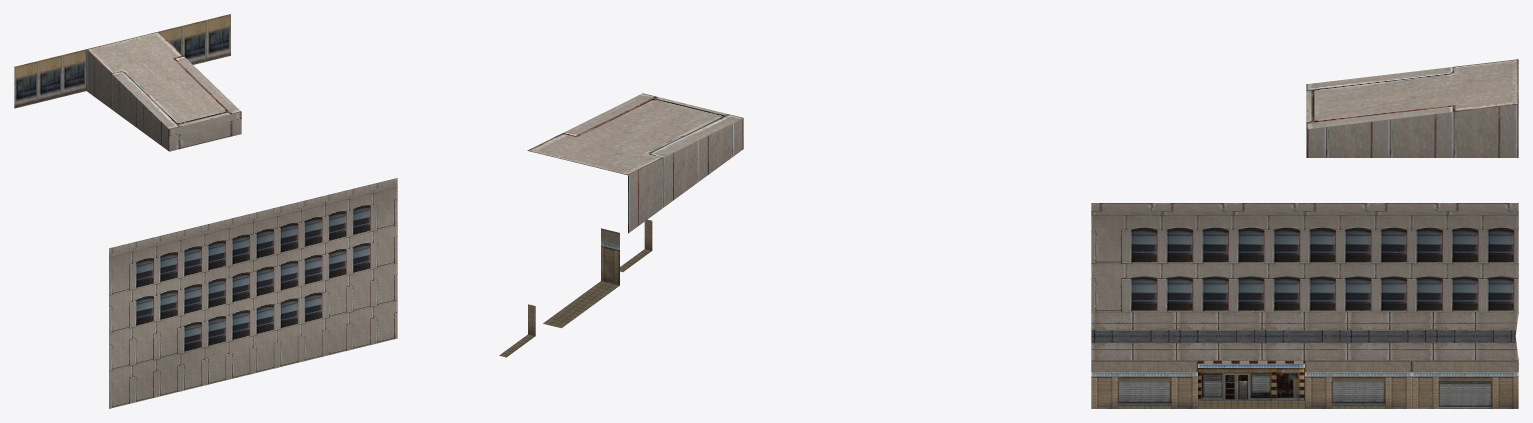
The model's file is M2Zone4_Building09A.glb.
The picture shows the model from 3 angles, left to right: view 1: azimuth 30°, elevation 25°; view 2: azimuth 150°, elevation 25°; view 3: azimuth 270°, elevation 25°; orthographic projection. The views are drawn at different scales.
Parts seen in each view (by area): view 1: M2ZONE4_BUILDING09A; view 2: M2ZONE4_BUILDING09A; view 3: M2ZONE4_BUILDING09A.
Boxes of the visible parts, box(x1,y1,x2,y2) form: M2ZONE4_BUILDING09A: box(14, 14, 397, 408); M2ZONE4_BUILDING09A: box(499, 93, 743, 357); M2ZONE4_BUILDING09A: box(1091, 59, 1518, 408).
Bounding box in the file's own units: 32 × 21.43 × 32.
Materials: 8 (8 with a texture image).
